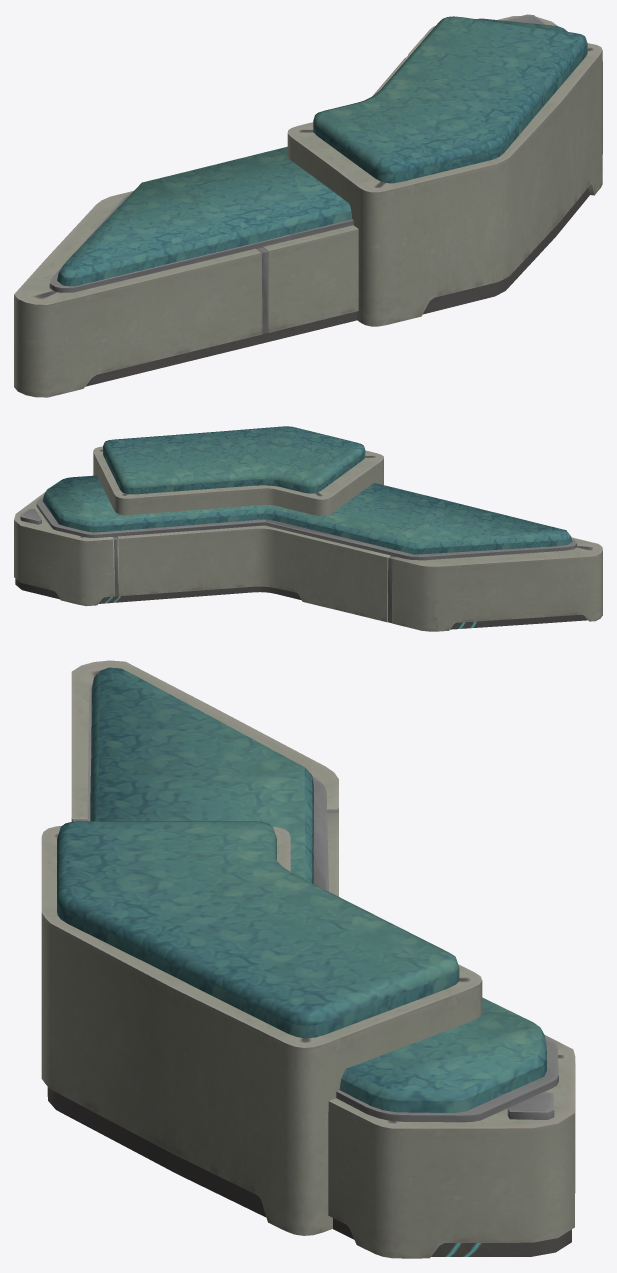
The model's file is pref_sm_city_parterre10b_snow_lv3.fbx.
3 views of the same model, one above another, from view 1: azimuth 30°, elevation 25°; view 2: azimuth 150°, elevation 25°; view 3: azimuth 270°, elevation 25° (orthographic). The views are drawn at different scales.
Parts seen in each view (by area): view 1: pref_sm_city_parterre10b_snow_lv3; view 2: pref_sm_city_parterre10b_snow_lv3; view 3: pref_sm_city_parterre10b_snow_lv3.
Part boxes in pixels (<box>): pref_sm_city_parterre10b_snow_lv3: <box>14,14,602,397</box>; pref_sm_city_parterre10b_snow_lv3: <box>14,426,602,631</box>; pref_sm_city_parterre10b_snow_lv3: <box>41,660,575,1258</box>.
Bounding box in the file's own units: 8.9 × 1.87 × 4.29.
